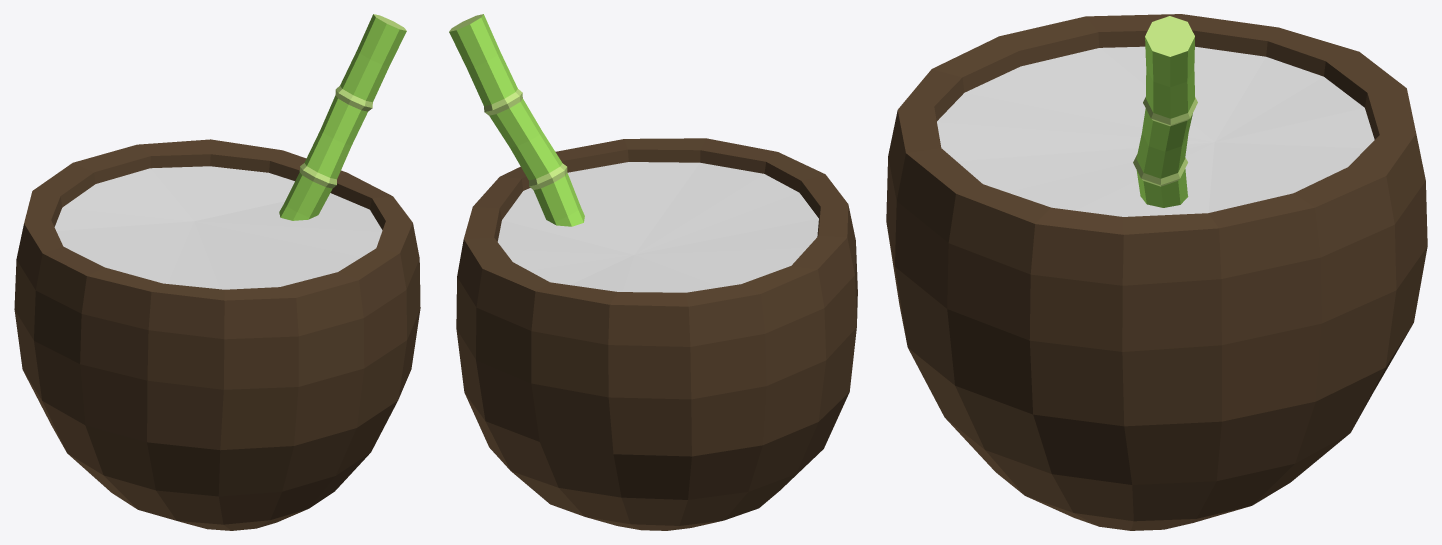
File: Half CocoNut.fbx
3 renders of one model, left to right at view 1: azimuth 30°, elevation 25°; view 2: azimuth 150°, elevation 25°; view 3: azimuth 270°, elevation 25°, orthographic. The views are drawn at different scales.
Visible parts, largest first — view 1: Half nut, Cylinder; view 2: Half nut, Cylinder; view 3: Half nut, Cylinder.
Part boxes in pixels (bbox=[...]): Half nut: bbox=[14, 139, 420, 530]; Cylinder: bbox=[279, 14, 406, 220]; Half nut: bbox=[456, 138, 857, 530]; Cylinder: bbox=[449, 14, 584, 226]; Half nut: bbox=[886, 14, 1427, 530]; Cylinder: bbox=[1133, 16, 1197, 207].
Bounding box in the file's own units: 202 × 238 × 197.
